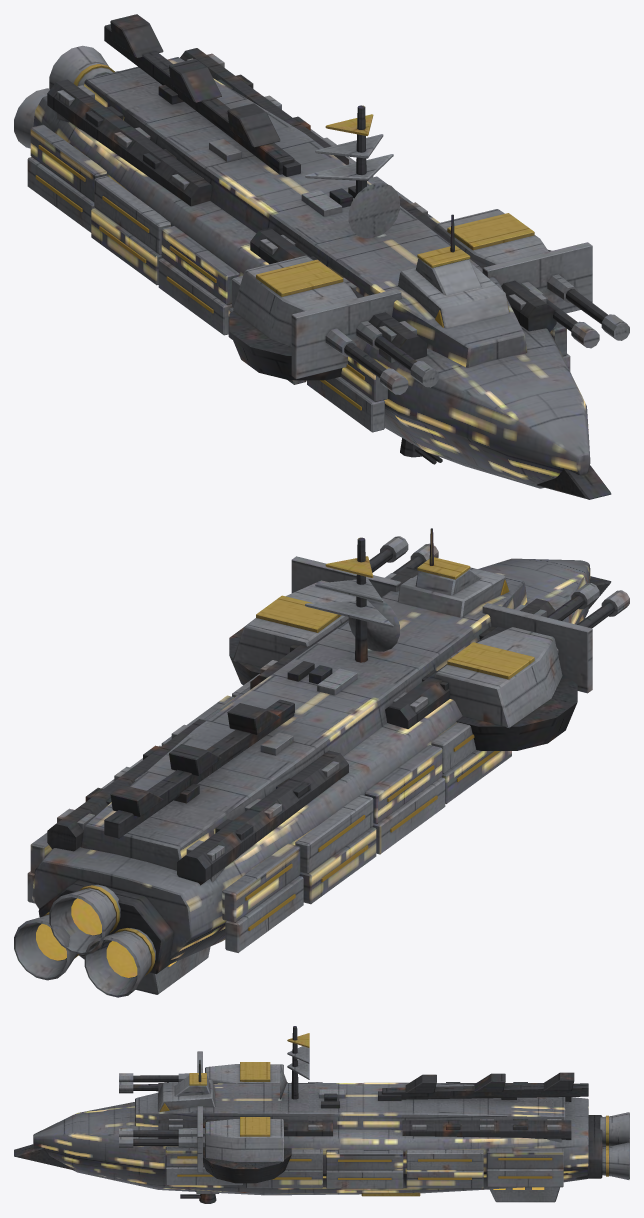
File: grael_frigate.glb
3 views of the same model, one above another, from view 1: azimuth 30°, elevation 25°; view 2: azimuth 150°, elevation 25°; view 3: azimuth 270°, elevation 25° (orthographic). The views are drawn at different scales.
Parts seen in each view (by area): view 1: HULL, SYS_WPN2, SYS_WPN1, SYS_BUS_A, SYS_BRIDGE, SYS_BUS_F, SYS_SENSORS, SYS_DRIVE; view 2: HULL, SYS_WPN2, SYS_DRIVE, SYS_BUS_A, SYS_WPN1, SYS_SENSORS, SYS_BRIDGE, SYS_BUS_F, SYS_JUMP; view 3: HULL, SYS_WPN1, SYS_BUS_A, SYS_DRIVE, SYS_WPN2, SYS_BRIDGE, SYS_BUS_F, SYS_SENSORS, SYS_JUMP, SYS_PD.
Part boxes in pixels (x1,y1,x2,y2): HULL: [27, 14, 611, 499]; SYS_WPN2: [229, 255, 438, 394]; SYS_WPN1: [434, 209, 629, 348]; SYS_BUS_A: [47, 48, 348, 206]; SYS_BRIDGE: [398, 214, 509, 328]; SYS_BUS_F: [250, 196, 556, 367]; SYS_SENSORS: [305, 105, 399, 238]; SYS_DRIVE: [14, 45, 118, 148]; HULL: [27, 558, 611, 963]; SYS_WPN2: [434, 583, 629, 750]; SYS_DRIVE: [14, 880, 178, 997]; SYS_BUS_A: [47, 719, 348, 885]; SYS_WPN1: [229, 536, 438, 685]; SYS_SENSORS: [305, 537, 399, 662]; SYS_BRIDGE: [398, 528, 509, 617]; SYS_BUS_F: [250, 567, 555, 728]; SYS_JUMP: [136, 946, 210, 994]; HULL: [14, 1072, 588, 1195]; SYS_WPN1: [119, 1106, 291, 1183]; SYS_BUS_A: [402, 1082, 571, 1142]; SYS_DRIVE: [576, 1112, 629, 1179]; SYS_WPN2: [119, 1051, 283, 1093]; SYS_BRIDGE: [158, 1060, 214, 1111]; SYS_BUS_F: [158, 1082, 332, 1138]; SYS_SENSORS: [280, 1026, 309, 1099]; SYS_JUMP: [489, 1187, 559, 1202]; SYS_PD: [180, 1190, 219, 1203].
Size of the model in its own units: 11.43 by 9.69 by 31.7.
Materials: 1 (1 with a texture image).
